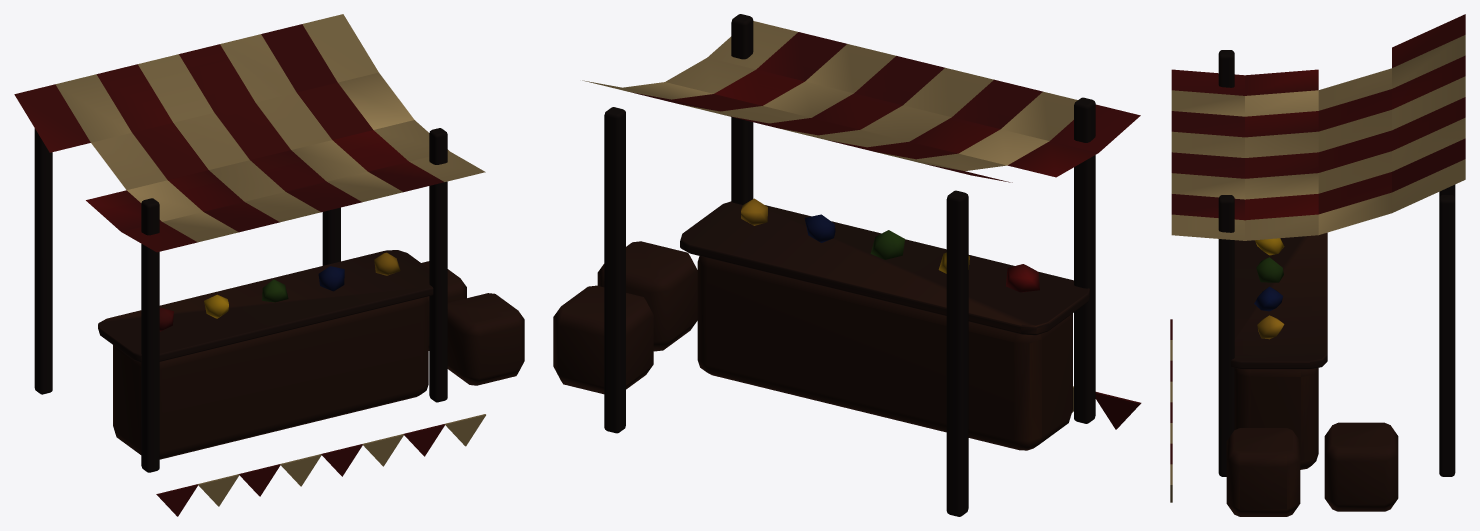
Rendered from BarracaR.fbx.
The picture shows the model from 3 angles, left to right: view 1: azimuth 30°, elevation 25°; view 2: azimuth 150°, elevation 25°; view 3: azimuth 270°, elevation 25°; orthographic projection. The views are drawn at different scales.
Parts seen in each view (by area): view 1: BarracaR; view 2: BarracaR; view 3: BarracaR.
Boxes of the visible parts, bbox=[...] form: BarracaR: bbox=[14, 14, 524, 516]; BarracaR: bbox=[553, 14, 1141, 516]; BarracaR: bbox=[1170, 14, 1465, 516].
Size of the model in its own units: 3.9 by 3 by 2.41.
